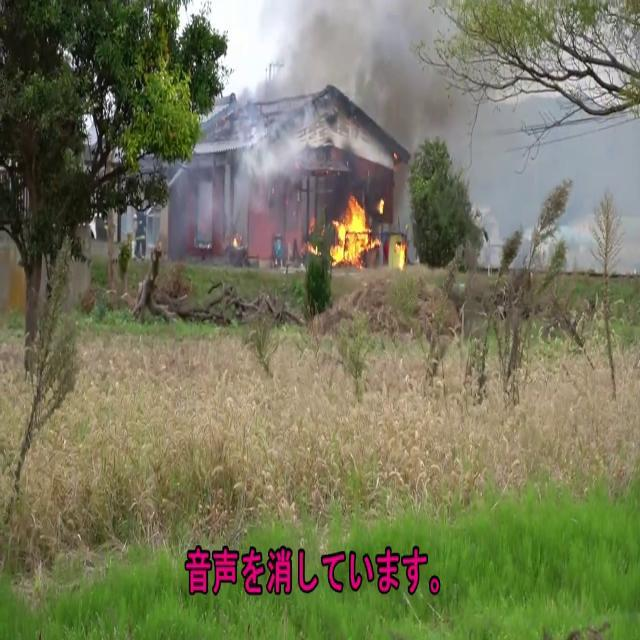Fire: (327, 188, 383, 266)
Smoke: (223, 0, 453, 180)
